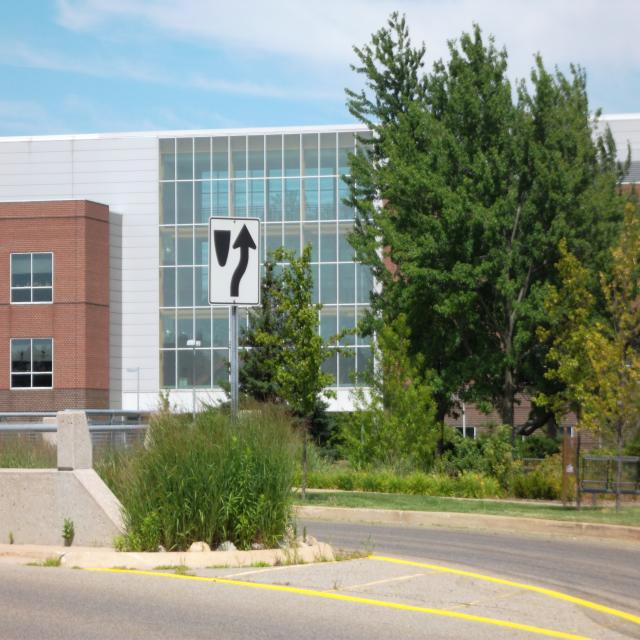regulatory: (206, 215, 262, 310)
